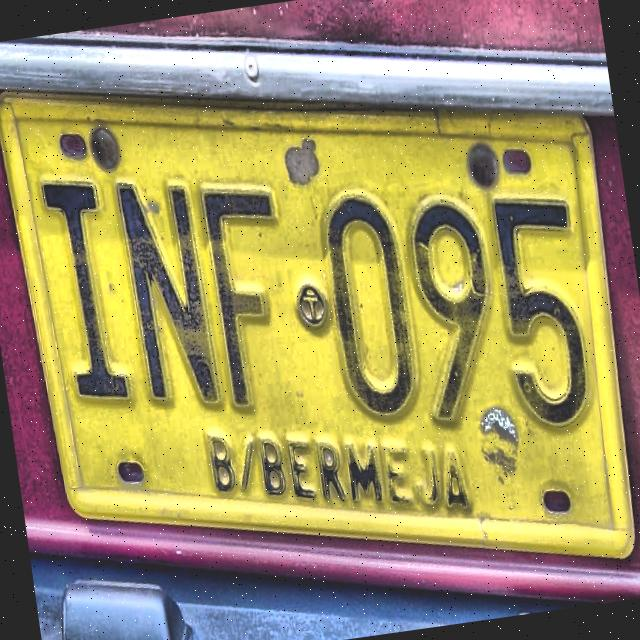plate: (3, 99, 629, 542)
